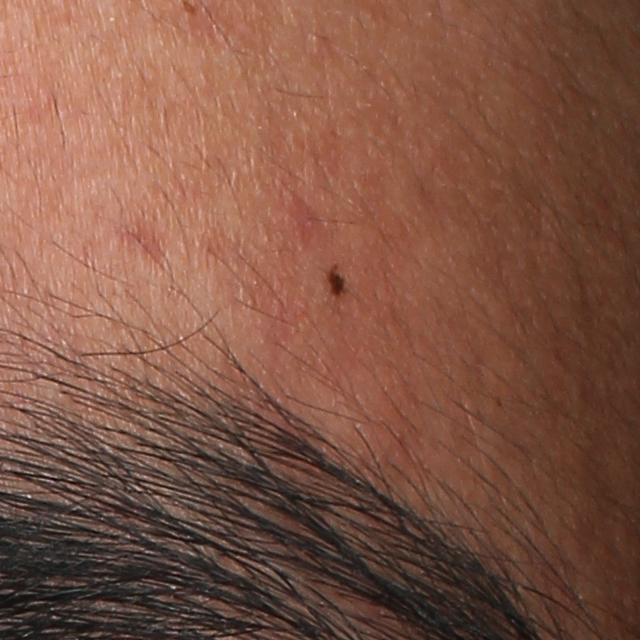nevus: (325, 264, 355, 303)
